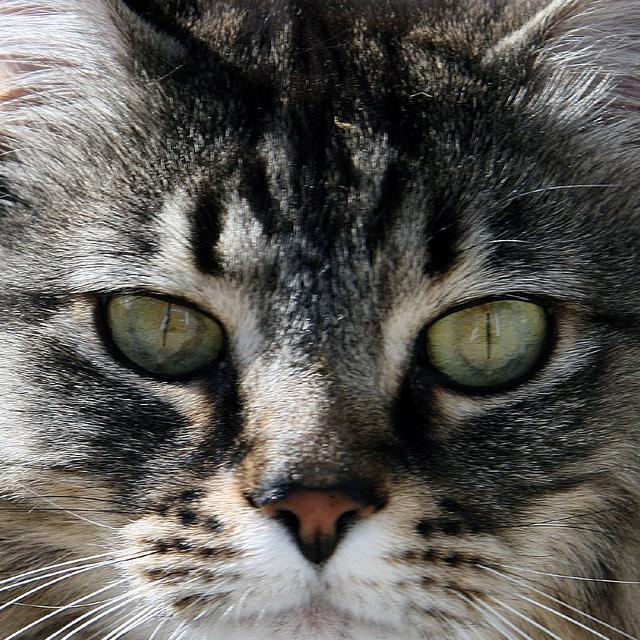animals: (0, 0, 640, 564)
